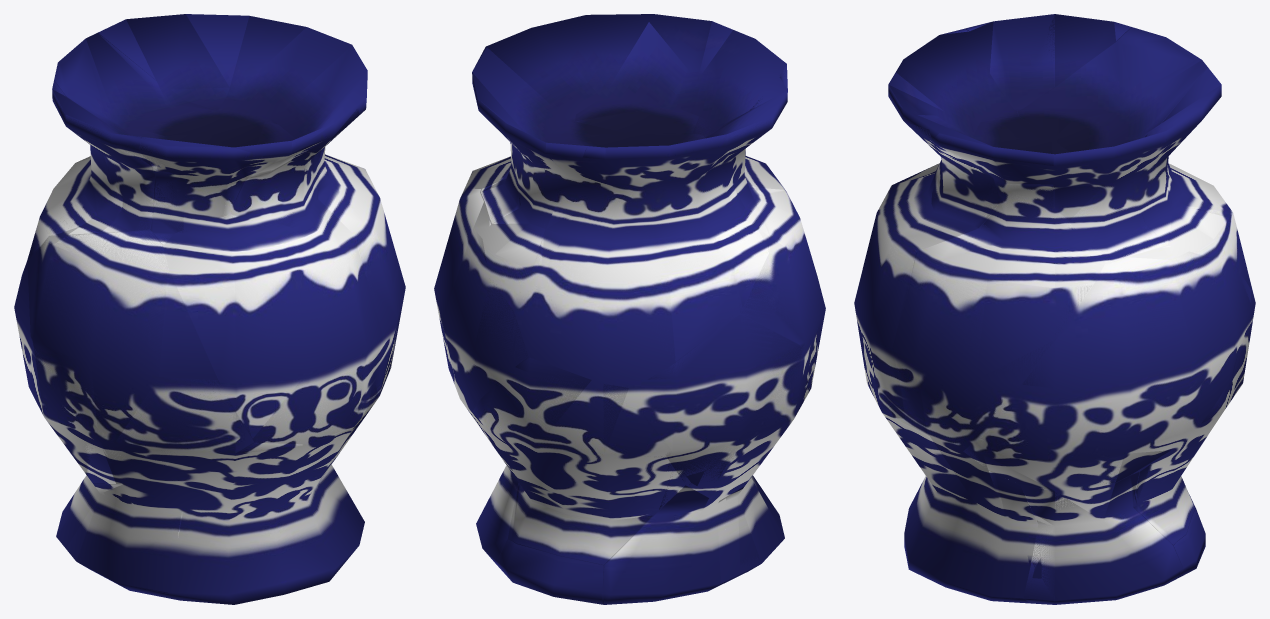
The model's file is VaseShortModel.fbx.
The picture shows the model from 3 angles, left to right: view 1: azimuth 30°, elevation 25°; view 2: azimuth 150°, elevation 25°; view 3: azimuth 270°, elevation 25°; orthographic projection.
Visible parts, largest first — view 1: Cube, Cube_cell.015, Cube_cell.006, Cube_cell.008, Cube_cell.017, Cube_cell.010, Cube_cell, Cube_cell.014, Cube_cell.012, Cube_cell.009, Cube_cell.011, Cube_cell.005 (+1 smaller); view 2: Cube, Cube_cell.011, Cube_cell.008, Cube_cell.016, Cube_cell.013, Cube_cell.015, Cube_cell, Cube_cell.007, Cube_cell.014, Cube_cell.018, Cube_cell.009, Cube_cell.019 (+3 smaller); view 3: Cube, Cube_cell.007, Cube_cell.010, Cube_cell.019, Cube_cell.008, Cube_cell.009, Cube_cell, Cube_cell.006, Cube_cell.003, Cube_cell.004, Cube_cell.014, Cube_cell.016 (+4 smaller).
Part boxes in pixels (left/top/right/bottom): Cube: left=27, top=14, right=405, bottom=604; Cube_cell.015: left=27, top=231, right=253, bottom=466; Cube_cell.006: left=171, top=214, right=382, bottom=442; Cube_cell.008: left=27, top=34, right=216, bottom=260; Cube_cell.017: left=140, top=138, right=262, bottom=244; Cube_cell.010: left=318, top=149, right=405, bottom=397; Cube_cell: left=200, top=109, right=359, bottom=239; Cube_cell.014: left=219, top=27, right=351, bottom=120; Cube_cell.012: left=98, top=14, right=249, bottom=110; Cube_cell.009: left=52, top=80, right=155, bottom=234; Cube_cell.011: left=14, top=261, right=163, bottom=483; Cube_cell.005: left=252, top=123, right=334, bottom=175; Cube: left=442, top=14, right=823, bottom=604; Cube_cell.011: left=645, top=314, right=813, bottom=485; Cube_cell.008: left=532, top=133, right=768, bottom=361; Cube_cell.016: left=472, top=356, right=672, bottom=564; Cube_cell.013: left=603, top=485, right=737, bottom=604; Cube_cell.015: left=741, top=188, right=825, bottom=375; Cube_cell: left=575, top=22, right=699, bottom=134; Cube_cell.007: left=434, top=188, right=527, bottom=405; Cube_cell.014: left=472, top=47, right=591, bottom=223; Cube_cell.018: left=497, top=539, right=603, bottom=604; Cube_cell.009: left=704, top=76, right=787, bottom=236; Cube_cell.019: left=476, top=465, right=518, bottom=570; Cube: left=854, top=14, right=1255, bottom=604; Cube_cell.007: left=963, top=246, right=1250, bottom=490; Cube_cell.010: left=893, top=202, right=1095, bottom=433; Cube_cell.019: left=1021, top=472, right=1182, bottom=604; Cube_cell.008: left=1017, top=27, right=1232, bottom=215; Cube_cell.009: left=965, top=14, right=1130, bottom=110; Cube_cell: left=905, top=115, right=1070, bottom=252; Cube_cell.006: left=854, top=213, right=914, bottom=418; Cube_cell.003: left=886, top=416, right=1037, bottom=599; Cube_cell.004: left=932, top=133, right=1053, bottom=207; Cube_cell.014: left=1054, top=150, right=1166, bottom=262; Cube_cell.016: left=1134, top=289, right=1255, bottom=544.
Bounding box in the file's own units: 141 × 176 × 138.
